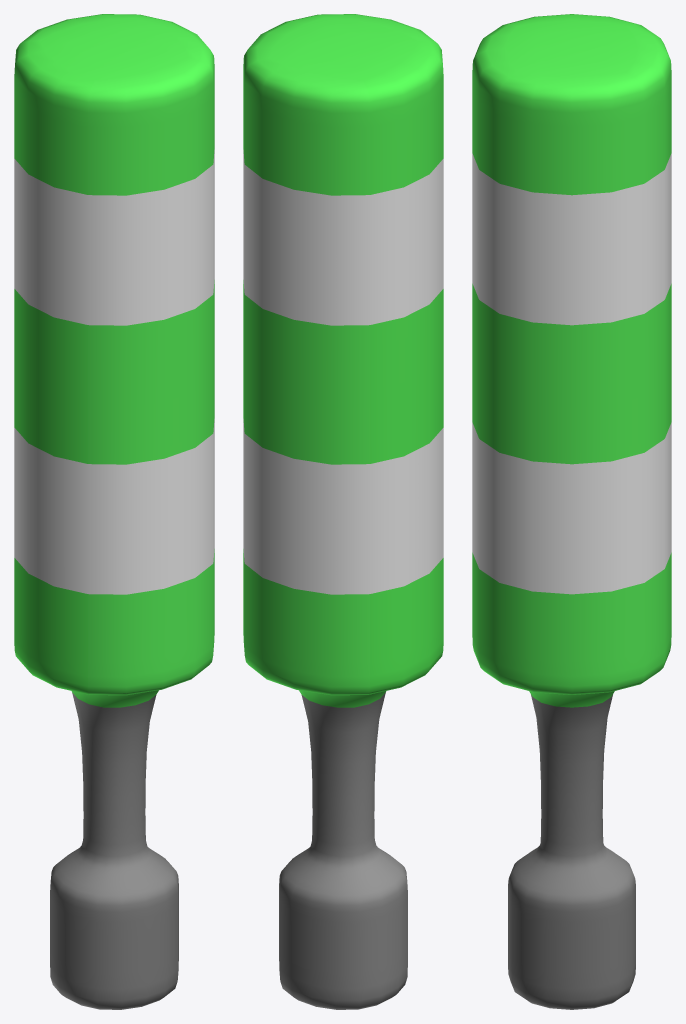
File: trapcirclehorizontalgreen.fbx
The picture shows the model from 3 angles, left to right: view 1: azimuth 30°, elevation 25°; view 2: azimuth 150°, elevation 25°; view 3: azimuth 270°, elevation 25°; orthographic projection.
Parts seen in each view (by area): view 1: Cube.029; view 2: Cube.029; view 3: Cube.029.
Part boxes in pixels (x1,y1,x2,y2): Cube.029: (14, 14, 214, 1009); Cube.029: (243, 14, 443, 1009); Cube.029: (472, 14, 671, 1009).
Size of the model in its own units: 17.9 by 93.7 by 17.9.
1 material, 1 textured.
